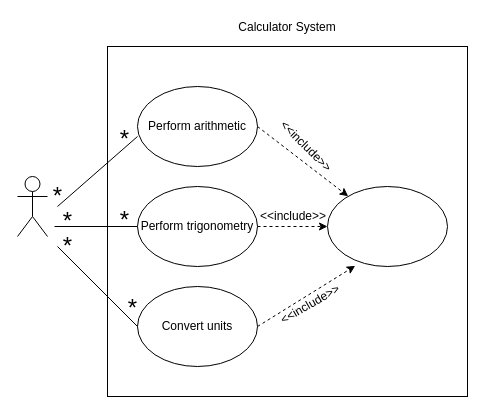
Some shapes in this 485 by 414 pixel diagram are drawn without their labels. Here are the shapes that lost their labels. From the top down, the box of each, then its label:
(16, 176, 48, 236): User
(326, 186, 448, 266): Validate
